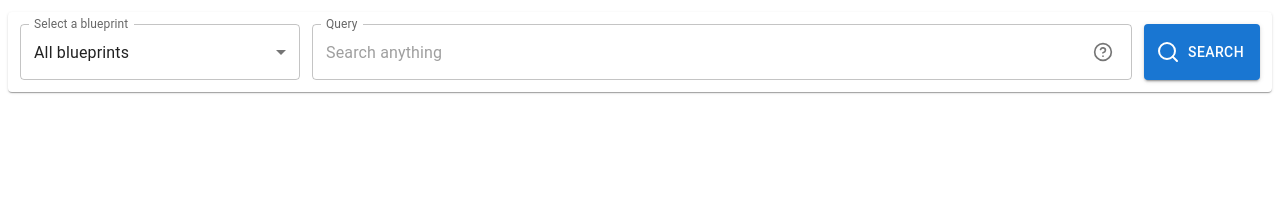
ExplorerSearchForm version scope › opens search syntax from the query field help button
Click the button named "Search syntax".
click(1103, 52)  # box [1088,37,1118,67]
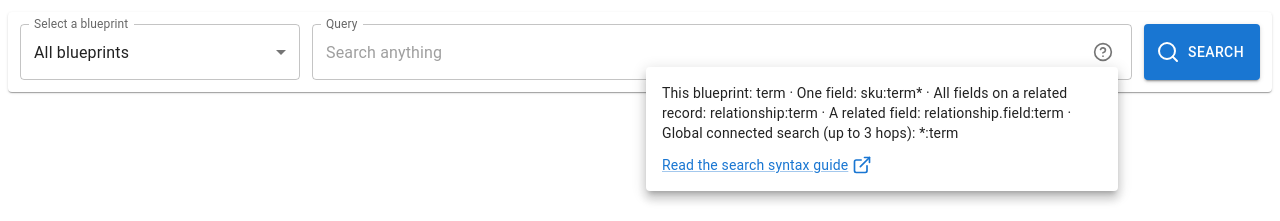
Expected: the text "This blueprint: term" is shown, [662,85,1071,141]
